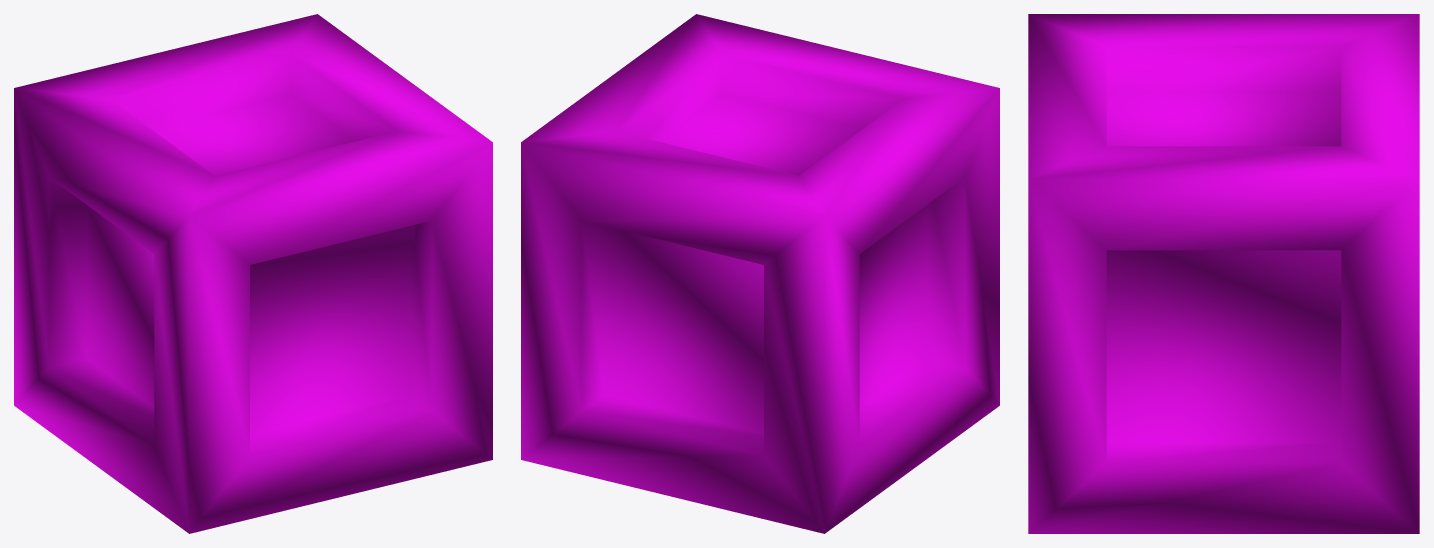
File: inset_cube.glb
The picture shows the model from 3 angles, left to right: view 1: azimuth 30°, elevation 25°; view 2: azimuth 150°, elevation 25°; view 3: azimuth 270°, elevation 25°; orthographic projection. The views are drawn at different scales.
Parts seen in each view (by area): view 1: Cube; view 2: Cube; view 3: Cube.
Part boxes in pixels (box(x1,y1,x2,y2)): Cube: box(14, 14, 492, 533); Cube: box(521, 14, 999, 533); Cube: box(1028, 14, 1419, 533).
Size of the model in its own units: 2 by 2 by 2.
